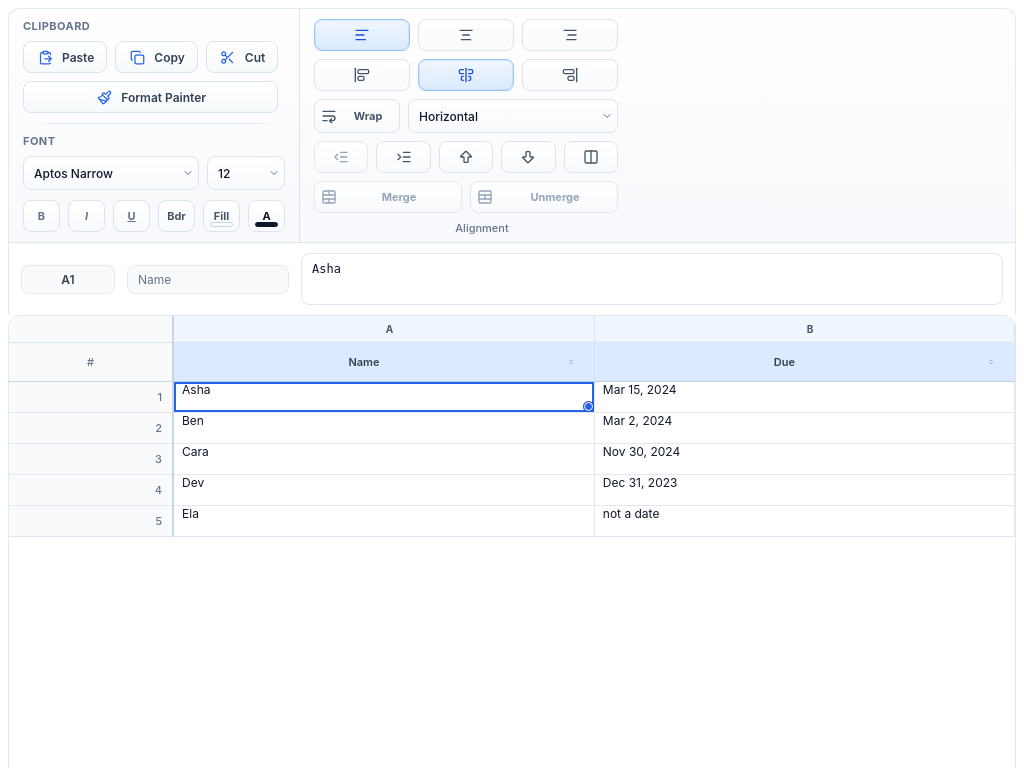
Test case: date filter tree › shows years collapsed, all checked, with real expander buttons
The image size is (1024, 768).
Click the button named "Open column options for Due" at (991, 362), box x1=981 y1=352 x2=1001 y2=372
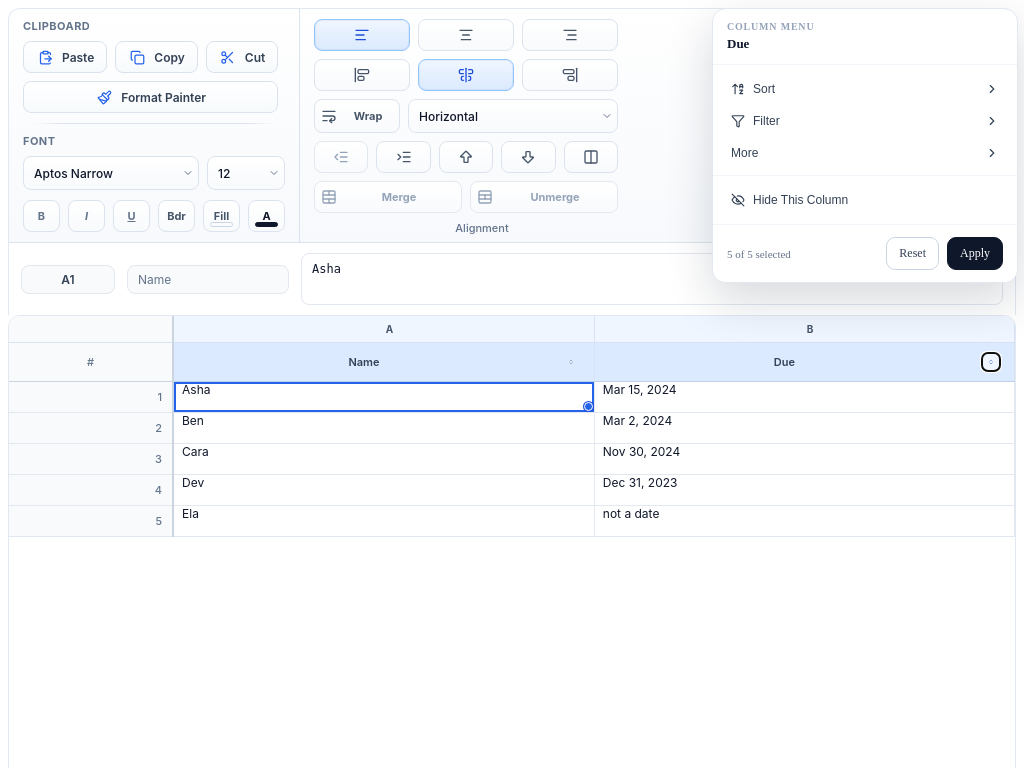
Click the button "Filter" at (738, 121), box x1=721 y1=105 x2=1009 y2=137
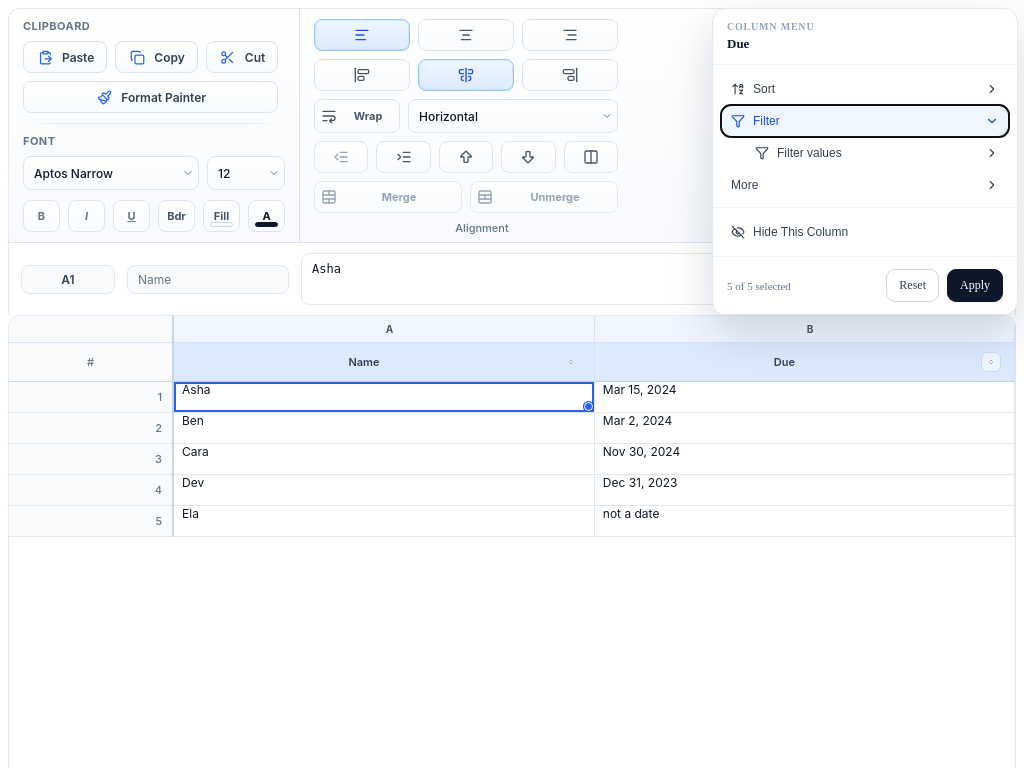
Click the button "Filter values" at (809, 153), box x1=745 y1=139 x2=1009 y2=167
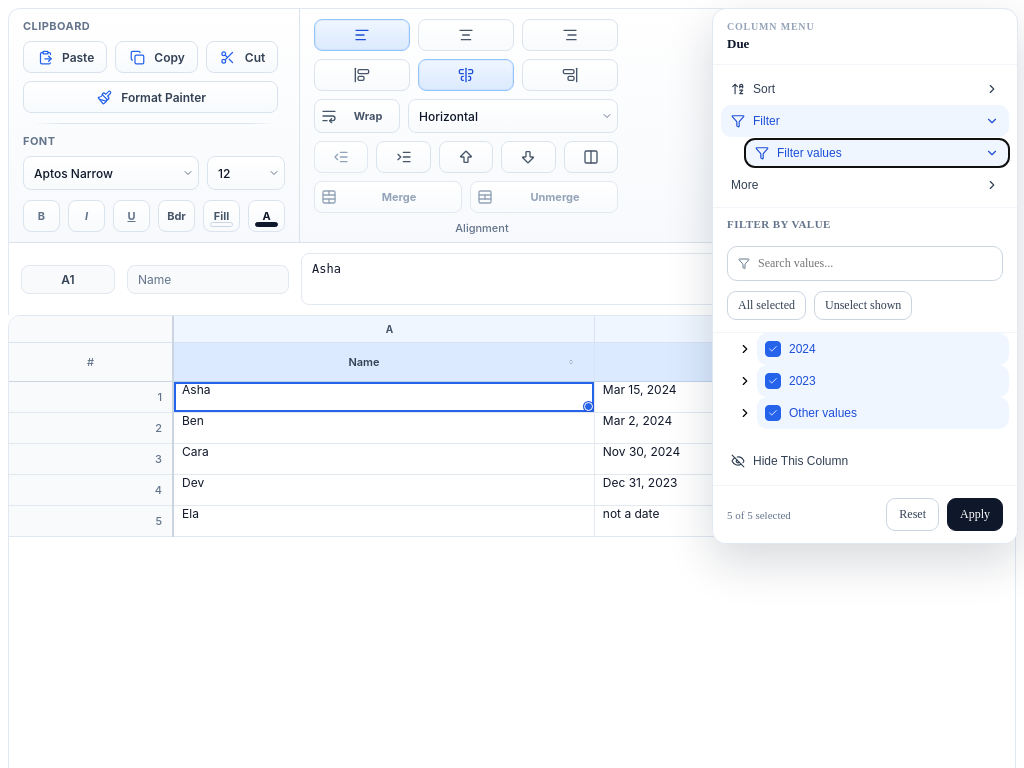
Expected: the checkbox labelled "March" is not shown
Click the button named "Expand 2024" at (745, 349), box x1=733 y1=335 x2=757 y2=363
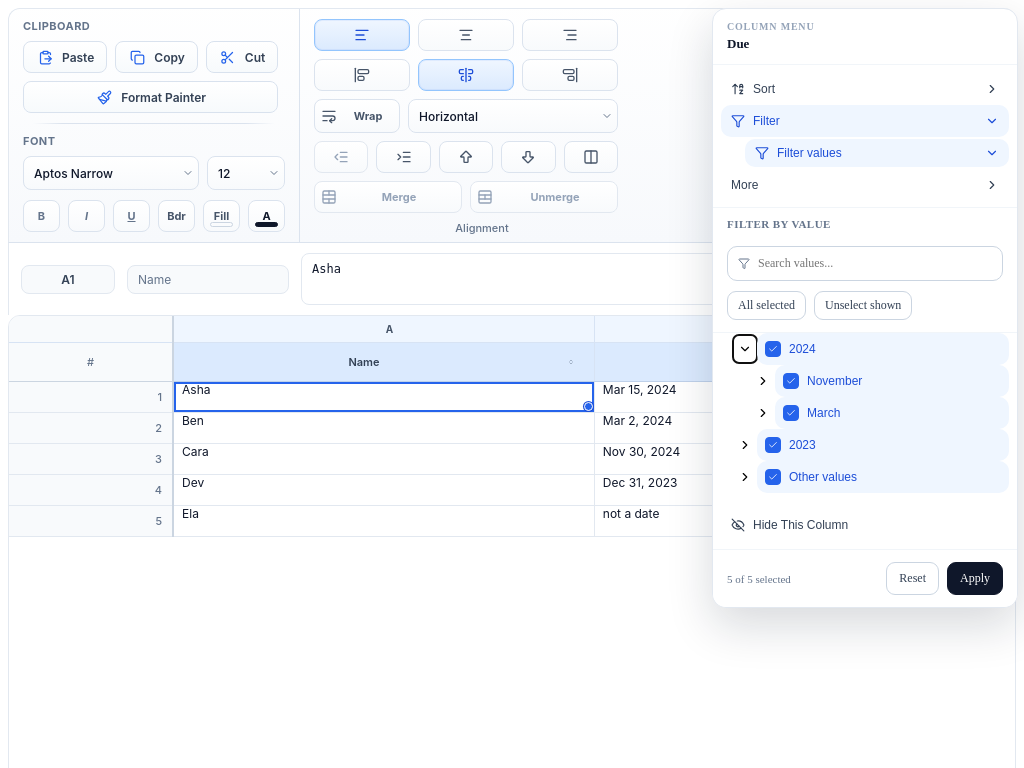
Now the button named "Collapse 2024" is expanded, box x1=733 y1=335 x2=757 y2=363
Now the checkbox labelled "March" is shown, box x1=775 y1=397 x2=1009 y2=429
Now the checkbox labelled "November" is shown, box x1=775 y1=365 x2=1009 y2=397
